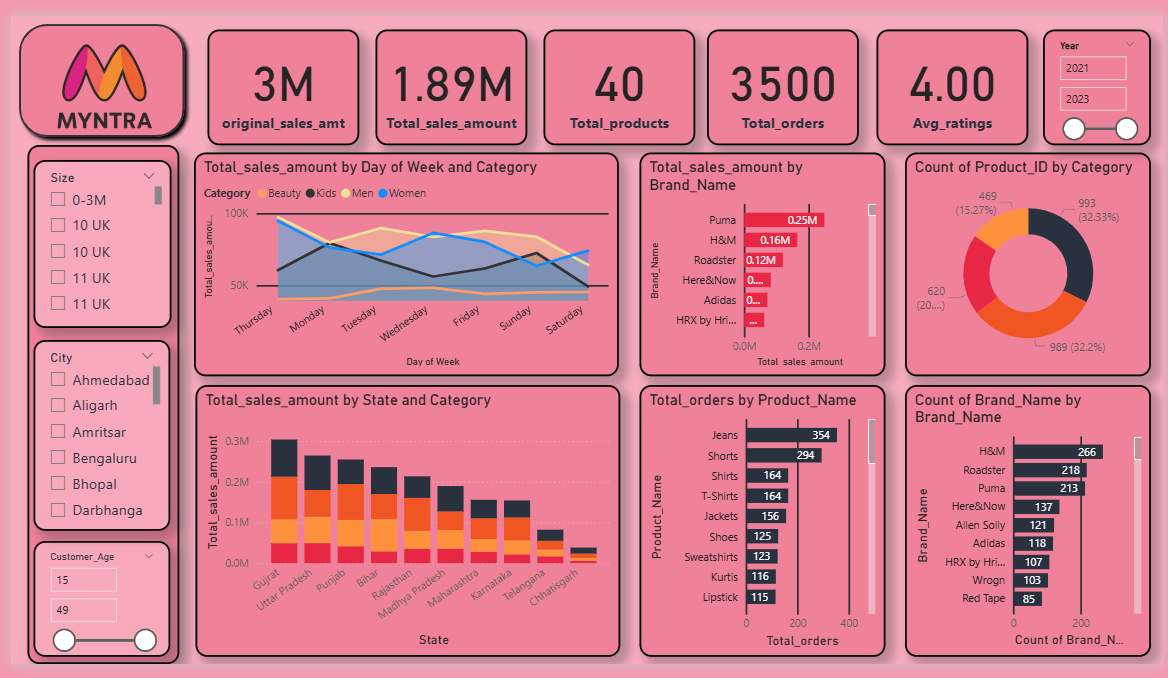

The dashboard page shown, as its layout file describes it:
{"tool":"powerbi","page":{"name":"Page 1","canvas":[1280,720],"ordinal":0},"visuals":[{"type":"card","fields":{"Values":["Measures_table.Avg_ratings1"]},"box":[961.7,15,168.3,128.3],"z":0},{"type":"card","fields":{"Values":["Measures_table.original_sales_amount1"]},"box":[218.3,15,168.3,128.3],"z":1000},{"type":"card","fields":{"Values":["Measures_table.Total_products1"]},"box":[591.7,15,168.3,128.3],"z":2000},{"type":"card","fields":{"Values":["Measures_table.Total_orders1"]},"box":[773.3,15,168.3,128.3],"z":3000},{"type":"card","fields":{"Values":["Measures_table.Total_sales_amount1"]},"box":[405,15,168.3,128.3],"z":4000},{"type":"shape","box":[0,0,201.7,143.3],"z":5000},{"type":"image","box":[3.3,0,200,160],"z":6000},{"type":"shape","box":[18.3,143.3,168.3,576.7],"z":7000},{"type":"areaChart","title":"Total_sales_amount by Day of Week and Category","fields":{"Category":["Date_table.Day of Week"],"Y":["Measures_table.Total_sales_amount1"],"Series":["Myntra_dataset.Category"]},"box":[203.3,151.7,471.7,248.3],"z":8000},{"type":"barChart","fields":{"Y":["Measures_table.Total_sales_amount1"],"Category":["Myntra_dataset.Brand_Name Hierarchy.Brand_Name","Myntra_dataset.Brand_Name Hierarchy.Product_Name"]},"box":[698.3,151.7,273.3,248.3],"z":9000},{"type":"slicer","fields":{"Values":["Myntra_dataset.Size"]},"box":[25,160,153.3,186.7],"z":10000},{"type":"slicer","fields":{"Values":["dim_customers.Customer_Age"]},"box":[25,583.3,151.7,128.3],"z":11000},{"type":"slicer","fields":{"Values":["dim_customers.City"]},"box":[25,360,151.7,211.7],"z":12000},{"type":"donutChart","fields":{"Category":["Myntra_dataset.Category"],"Y":["CountNonNull(Myntra_dataset.Product_ID)"]},"box":[993.3,151.7,273.3,248.3],"z":13000},{"type":"columnChart","fields":{"Category":["dim_customers.State"],"Y":["Measures_table.Total_sales_amount1"],"Series":["Myntra_dataset.Category"]},"box":[205,410,471.7,301.7],"z":14000},{"type":"barChart","fields":{"Category":["Myntra_dataset.Product_Name"],"Y":["Measures_table.Total_orders1"]},"box":[698,410,273,302],"z":15000},{"type":"barChart","fields":{"Y":["CountNonNull(Myntra_dataset.Brand_Name)"],"Category":["Myntra_dataset.Brand_Name"]},"box":[993.3,410,273.3,301.7],"z":16000},{"type":"slicer","fields":{"Values":["Date_table.Year"]},"box":[1146.7,15,120,128.3],"z":17000}]}

Visuals, with their boxes in screenshot pixels (x1, y1, x2, y2):
card - Measures_table.Avg_ratings1: Rect(875, 26, 1026, 141)
card - Measures_table.original_sales_amount1: Rect(206, 26, 357, 141)
card - Measures_table.Total_products1: Rect(542, 26, 693, 141)
card - Measures_table.Total_orders1: Rect(705, 26, 856, 141)
card - Measures_table.Total_sales_amount1: Rect(374, 26, 525, 141)
shape: Rect(9, 12, 191, 141)
image: Rect(12, 12, 192, 156)
shape: Rect(26, 141, 177, 660)
"Total_sales_amount by Day of Week and Category" areaChart: Rect(192, 149, 617, 372)
barChart - Measures_table.Total_sales_amount1 x Myntra_dataset.Brand_Name Hierarchy.Brand_Name: Rect(638, 149, 883, 372)
slicer - Myntra_dataset.Size: Rect(32, 156, 170, 324)
slicer - dim_customers.Customer_Age: Rect(32, 537, 168, 653)
slicer - dim_customers.City: Rect(32, 336, 168, 527)
donutChart - Myntra_dataset.Category x CountNonNull(Myntra_dataset.Product_ID): Rect(903, 149, 1149, 372)
columnChart - dim_customers.State x Measures_table.Total_sales_amount1: Rect(194, 381, 618, 653)
barChart - Myntra_dataset.Product_Name x Measures_table.Total_orders1: Rect(637, 381, 883, 653)
barChart - CountNonNull(Myntra_dataset.Brand_Name) x Myntra_dataset.Brand_Name: Rect(903, 381, 1149, 653)
slicer - Date_table.Year: Rect(1041, 26, 1149, 141)
